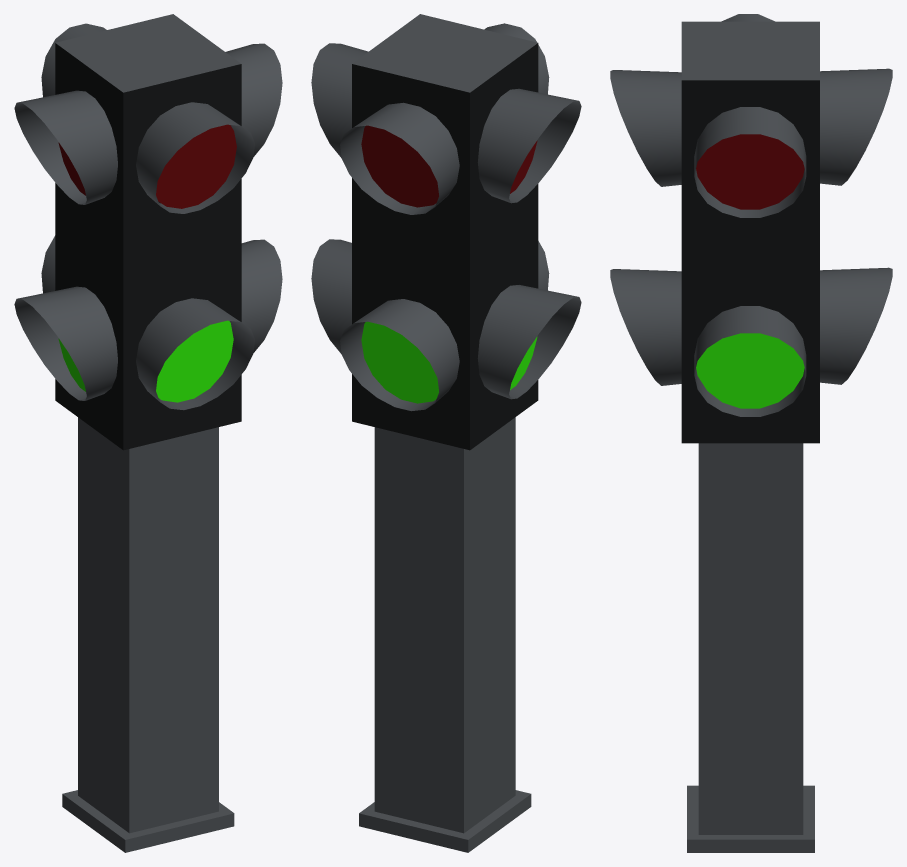
Rendered from lamppost.fbx.
The picture shows the model from 3 angles, left to right: view 1: azimuth 30°, elevation 25°; view 2: azimuth 150°, elevation 25°; view 3: azimuth 270°, elevation 25°; orthographic projection.
Visible parts, largest first — view 1: polySurface20824; view 2: polySurface20824; view 3: polySurface20824.
Part boxes in pixels (box(x1,y1,x2,y2)): polySurface20824: box(14, 14, 282, 852); polySurface20824: box(311, 14, 581, 852); polySurface20824: box(610, 14, 892, 852).
Size of the model in its own units: 0.576 by 1.73 by 0.5708.
